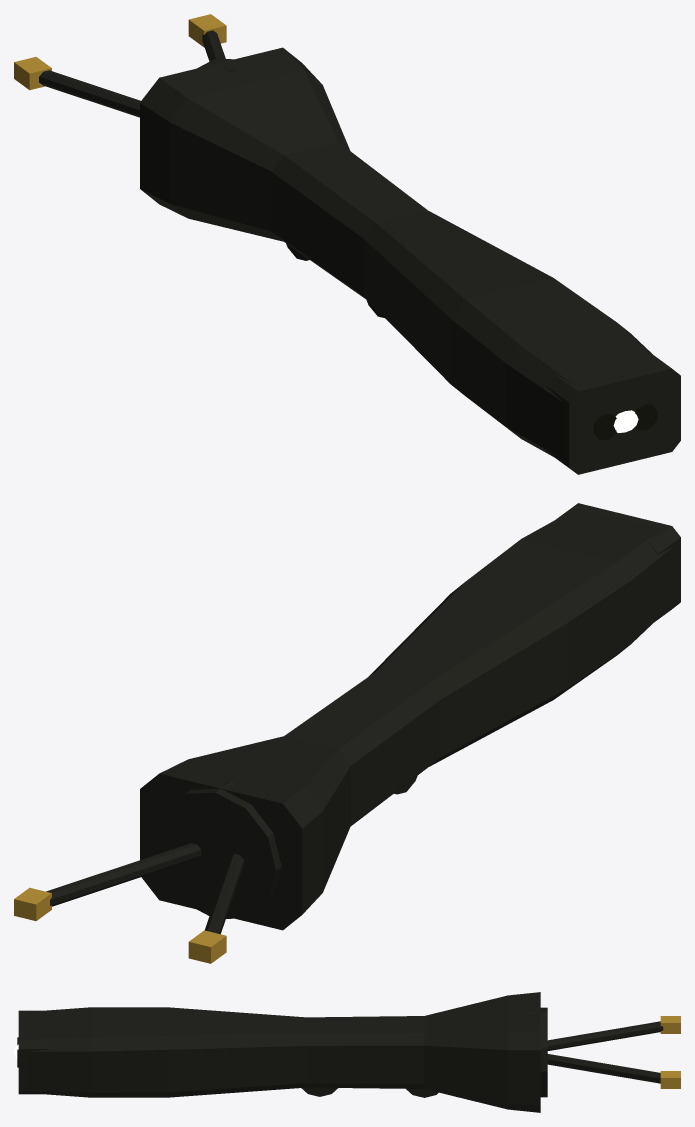
The picture shows the model from 3 angles, top to bottom: view 1: azimuth 30°, elevation 25°; view 2: azimuth 150°, elevation 25°; view 3: azimuth 270°, elevation 25°; orthographic projection. The views are drawn at different scales.
Parts seen in each view (by area): view 1: RIMWARD_HULL; view 2: RIMWARD_HULL; view 3: RIMWARD_HULL.
Part boxes in pixels (box(x1,y1,x2,y2)): RIMWARD_HULL: box(14, 14, 680, 474); RIMWARD_HULL: box(14, 503, 680, 963); RIMWARD_HULL: box(17, 992, 680, 1112).
Size of the model in its own units: 2.47 by 1.52 by 11.23.
